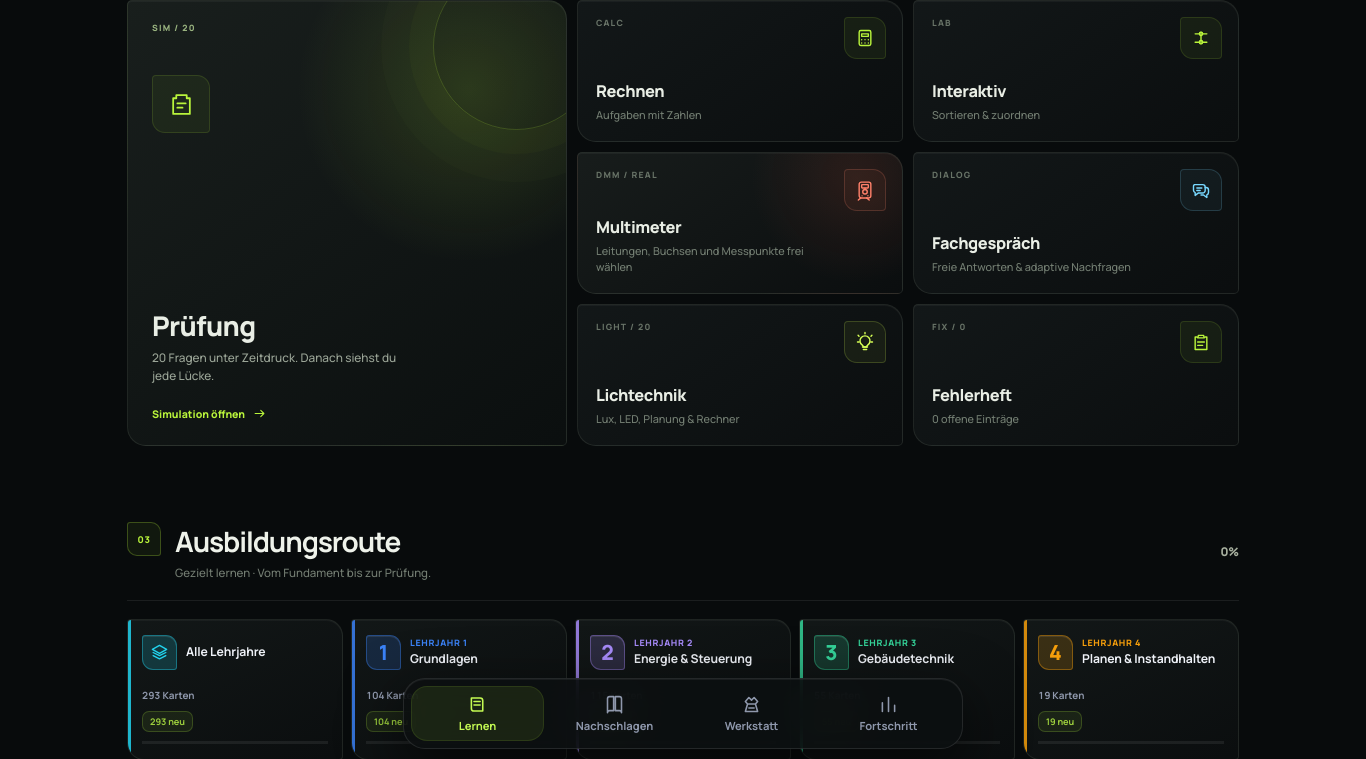
Test: App smoke test › öffnet Lichtechnik direkt vom Dashboard und berechnet eine Vorplanung
(page scrolled)
Click the button "LIGHT / 20 Lichtechnik Lux, LED, Planung & Rechner".
click(624, 327)  # box [577,304,903,446]
(page scrolled)
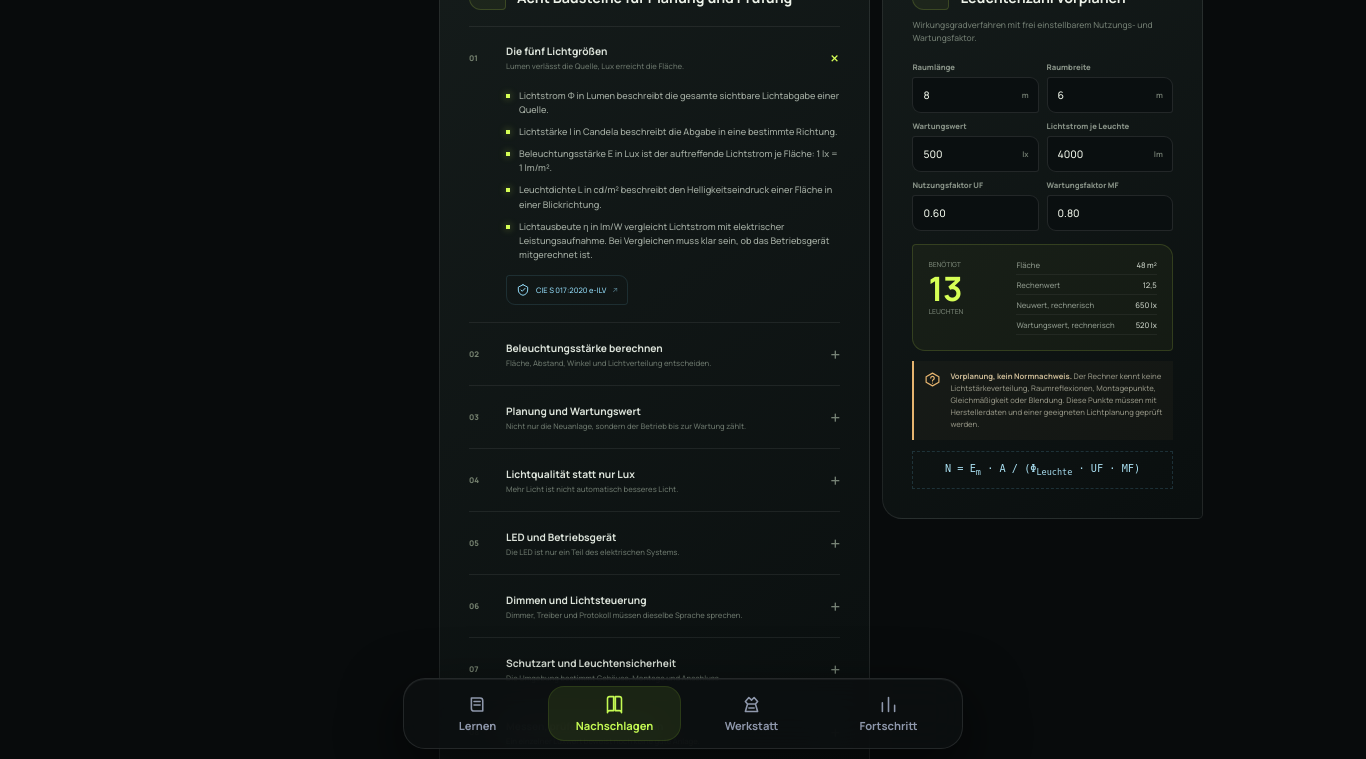
Expected: the text "13" is shown, [928,265,963,311]
Now the text "Vorplanung, kein Normnachweis." is shown, box [950,371,1072,381]
